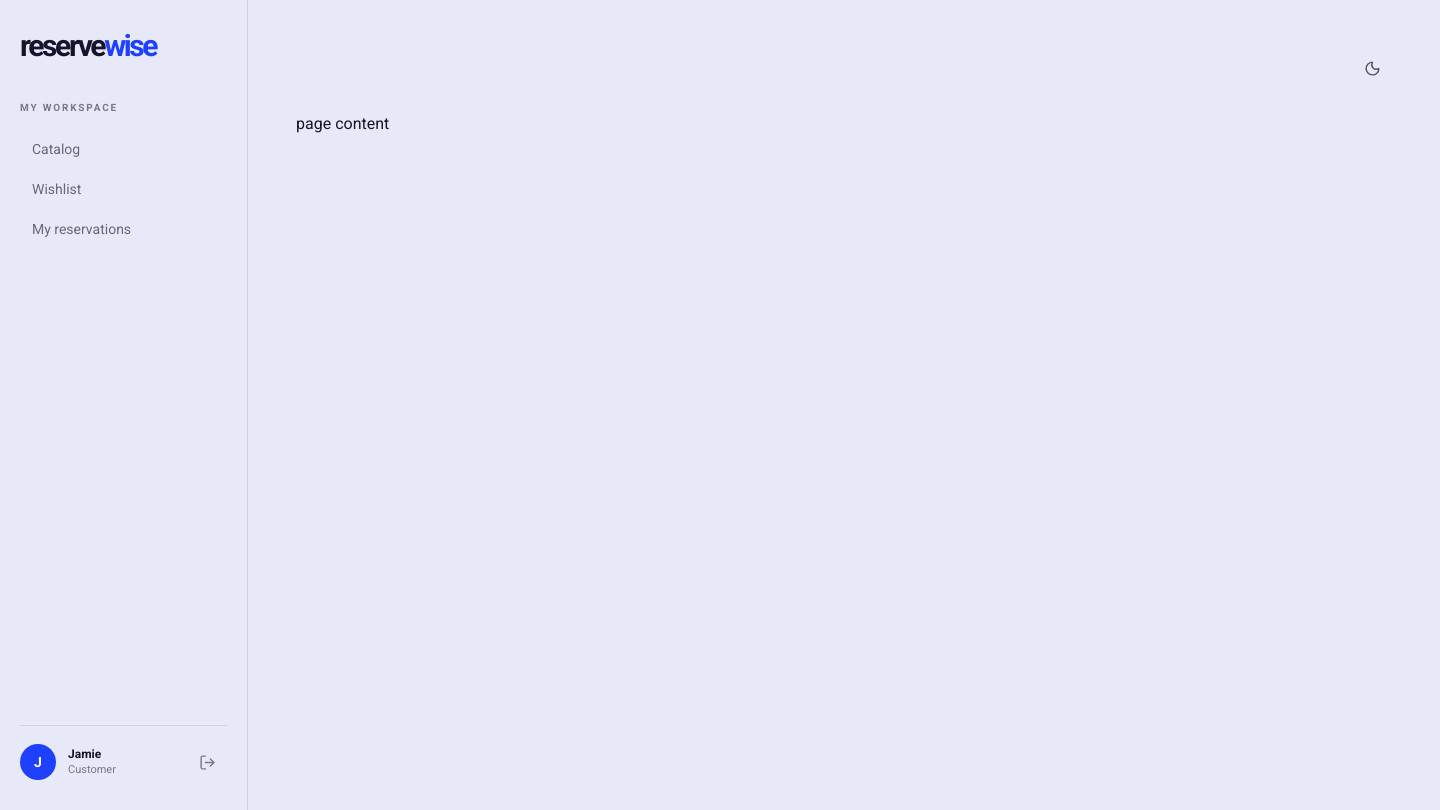
it: AppShell sign out › cancels via the Cancel button without signing out
The image size is (1440, 810).
Step 1. Click the button named "Sign out" → (207, 762), box [187,742,227,782]
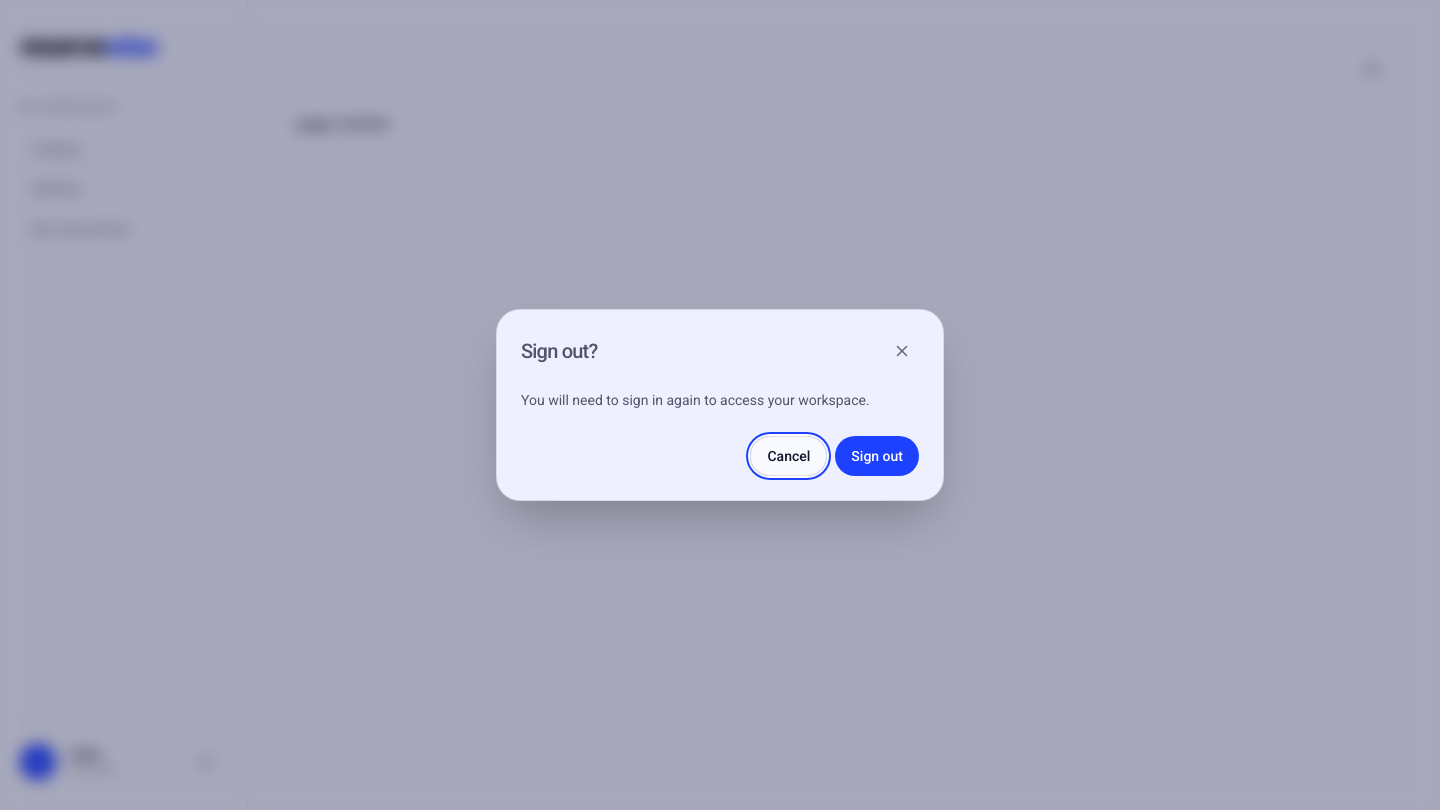
Step 2. Click the button "Cancel" → (789, 456), box [750,436,827,476]
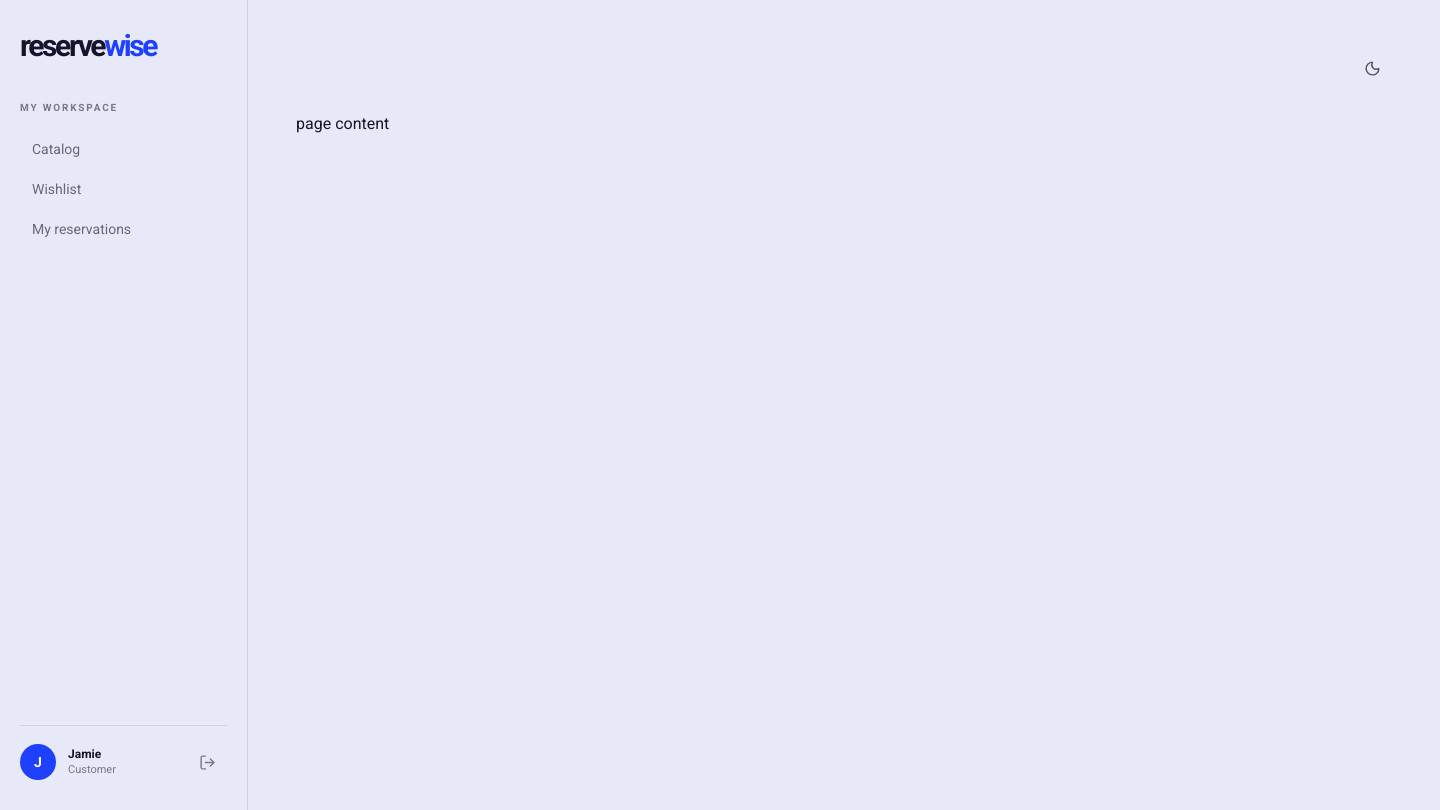
expect the dialog is gone: met
